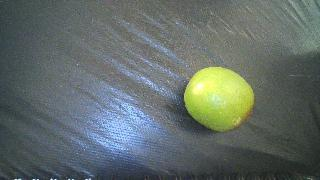DESECHO: (184, 67, 254, 132)
